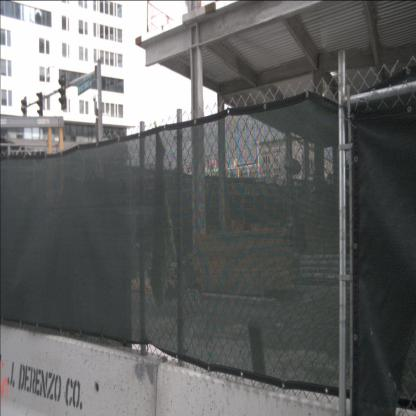barrier: (0, 320, 165, 414), (155, 359, 415, 415)
